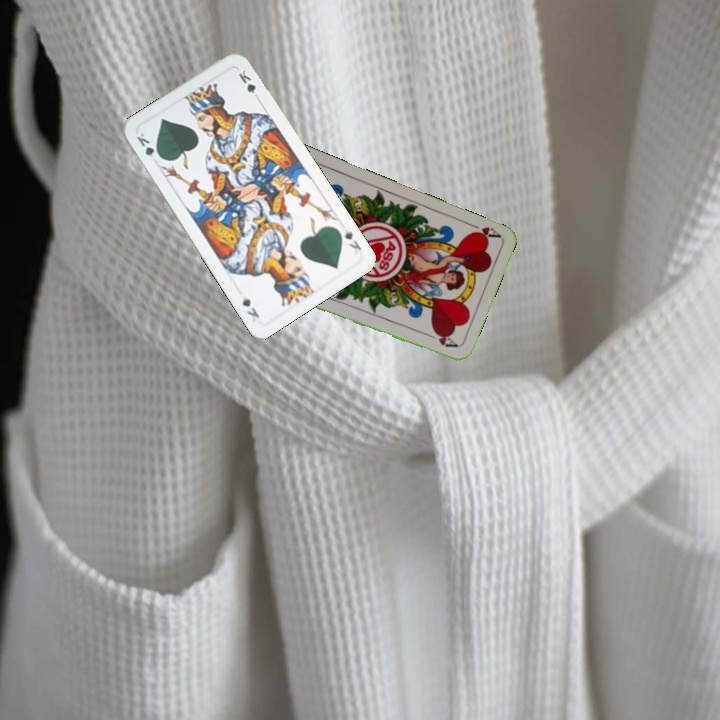GK: (132, 129, 164, 162), (339, 225, 364, 253)
HA: (463, 218, 502, 243)
